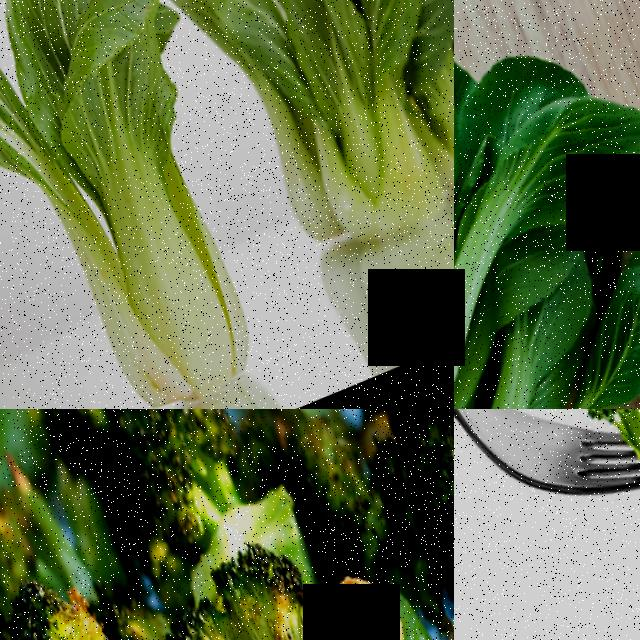bok choy: (0, 0, 297, 409), (231, 0, 454, 274), (454, 66, 559, 409)
broccoli: (16, 409, 258, 579), (112, 520, 384, 640), (504, 409, 640, 604), (390, 411, 454, 640), (291, 409, 454, 454)
